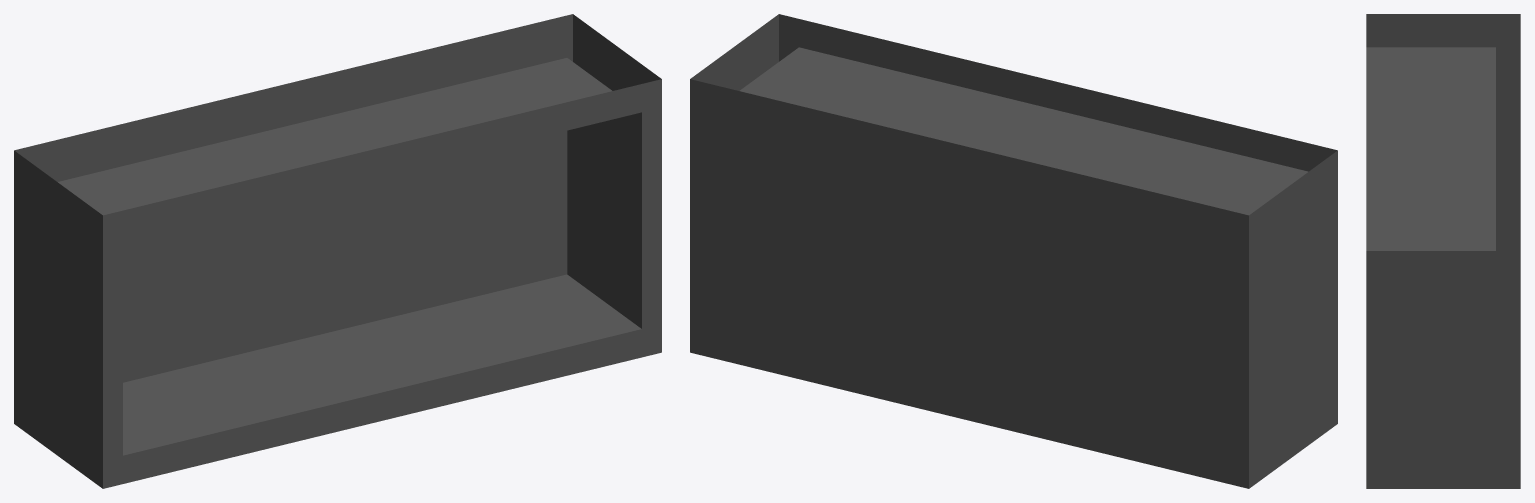
The model's file is Itr_Wardrobe4_Body2_04.FBX.
The picture shows the model from 3 angles, left to right: view 1: azimuth 30°, elevation 25°; view 2: azimuth 150°, elevation 25°; view 3: azimuth 270°, elevation 25°; orthographic projection. The views are drawn at different scales.
Visible parts, largest first — view 1: Itr_Wardrobe4_Body2_04; view 2: Itr_Wardrobe4_Body2_04; view 3: Itr_Wardrobe4_Body2_04.
Boxes of the visible parts, x1,y1,x2,y2 form: Itr_Wardrobe4_Body2_04: (14, 14, 661, 488); Itr_Wardrobe4_Body2_04: (690, 14, 1337, 488); Itr_Wardrobe4_Body2_04: (1366, 14, 1520, 488).
Bounding box in the file's own units: 59.06 × 27.62 × 16.27.
